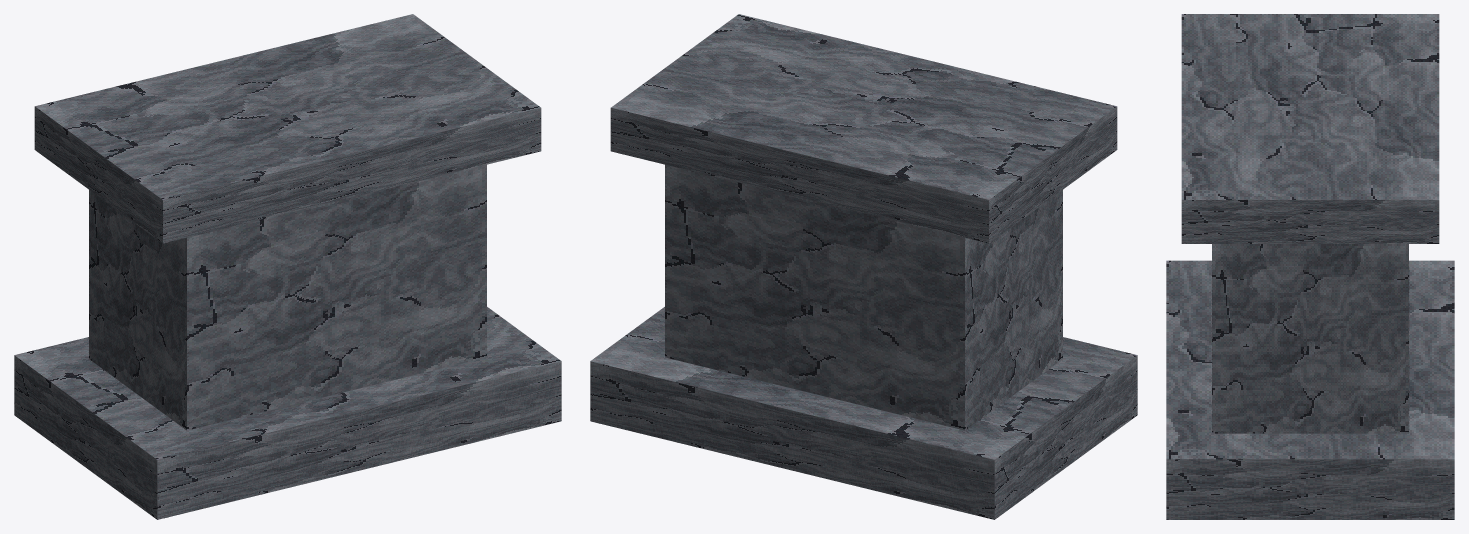
The model's file is prisao_altar.glb.
The picture shows the model from 3 angles, left to right: view 1: azimuth 30°, elevation 25°; view 2: azimuth 150°, elevation 25°; view 3: azimuth 270°, elevation 25°; orthographic projection.
Visible parts, largest first — view 1: prisao_altar; view 2: prisao_altar; view 3: prisao_altar.
Part boxes in pixels (bbox=[...]): prisao_altar: bbox=[14, 14, 561, 519]; prisao_altar: bbox=[590, 14, 1137, 519]; prisao_altar: bbox=[1166, 14, 1454, 519].
Bounding box in the file's own units: 1.55 × 1.14 × 0.95.
Materials: 1 (1 with a texture image).
